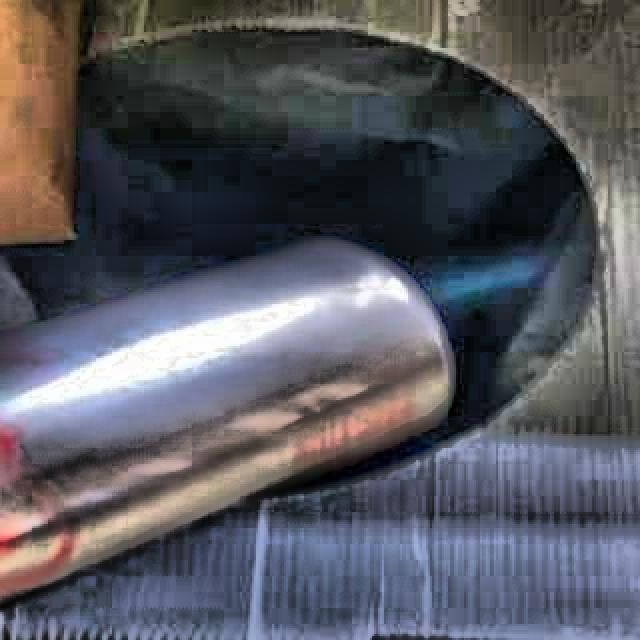metal: (0, 240, 453, 601)
